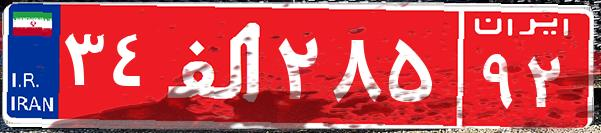2: (273, 28, 330, 110), (525, 38, 570, 115)
3: (57, 26, 110, 107)
4: (110, 28, 158, 105)
5: (385, 28, 445, 110)
8: (330, 28, 385, 110)
9: (475, 38, 525, 113)
الف: (158, 15, 273, 115)
